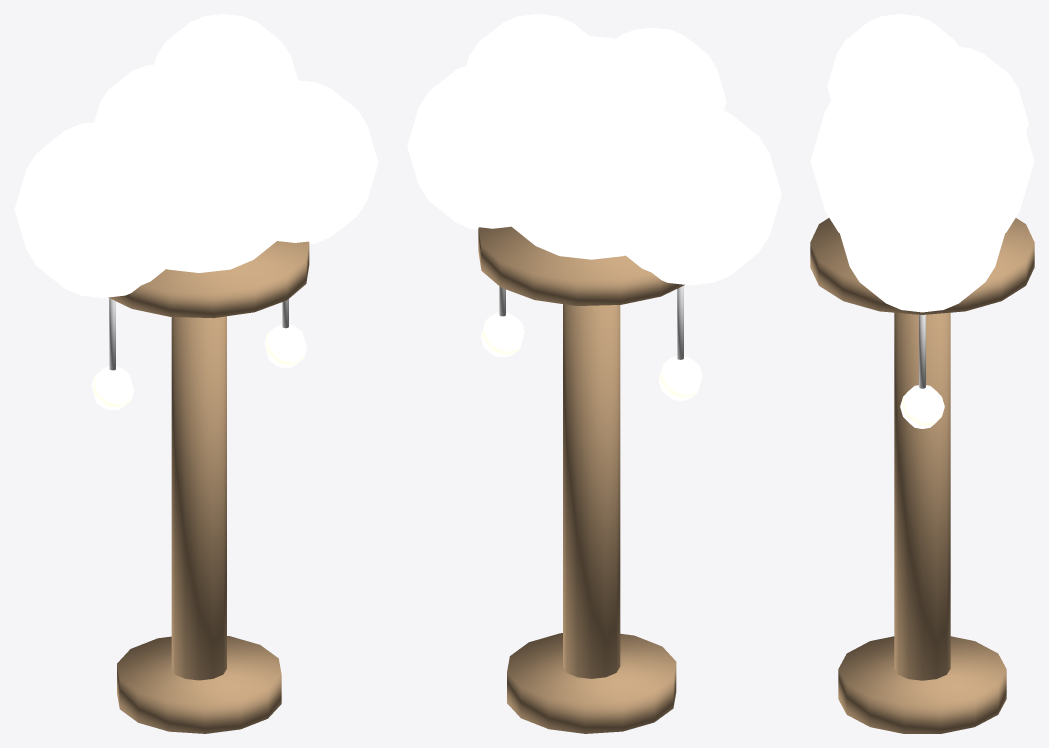
The model's file is home_sv_cloudlamp_v01.glb.
3 views of the same model, side by side, from view 1: azimuth 30°, elevation 25°; view 2: azimuth 150°, elevation 25°; view 3: azimuth 270°, elevation 25° (orthographic). The views are drawn at different scales.
Parts seen in each view (by area): view 1: home_sv_cloudlamp_v01; view 2: home_sv_cloudlamp_v01; view 3: home_sv_cloudlamp_v01.
Part boxes in pixels (x1,y1,x2,y2): home_sv_cloudlamp_v01: [14, 14, 378, 733]; home_sv_cloudlamp_v01: [407, 14, 781, 733]; home_sv_cloudlamp_v01: [810, 14, 1034, 733].
Size of the model in its own units: 0.71 by 1.31 by 0.4.
